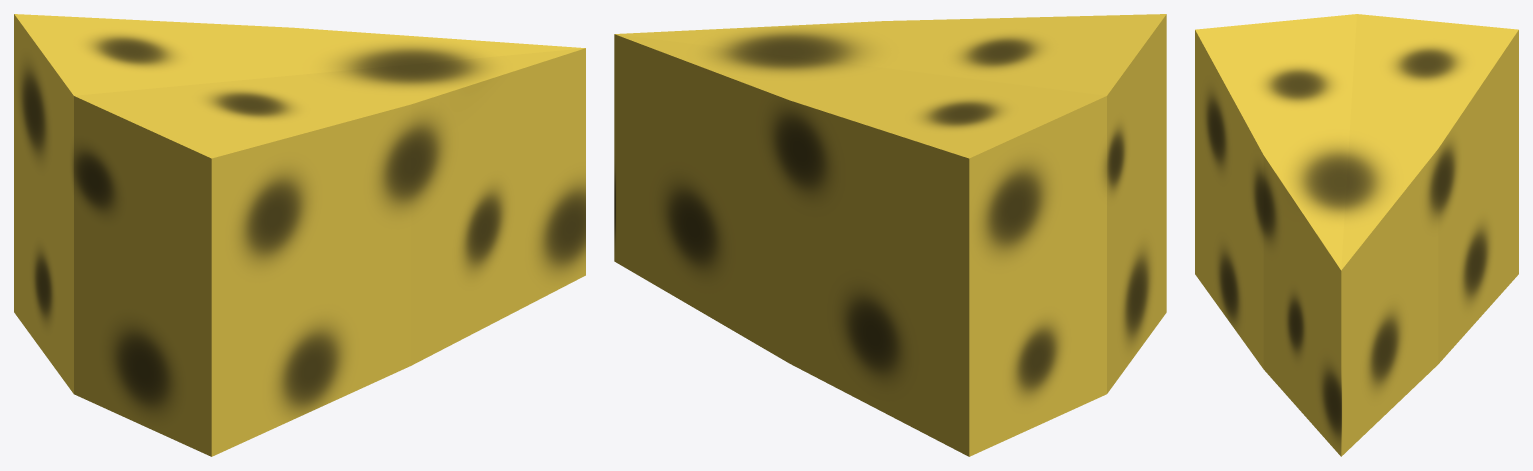
The model's file is chedda.fbx.
3 renders of one model, left to right at view 1: azimuth 30°, elevation 25°; view 2: azimuth 150°, elevation 25°; view 3: azimuth 270°, elevation 25°, orthographic. The views are drawn at different scales.
Parts seen in each view (by area): view 1: Cube; view 2: Cube; view 3: Cube.
Part boxes in pixels (x1=…): Cube: x1=14, y1=14, x2=585, y2=456; Cube: x1=614, y1=14, x2=1166, y2=456; Cube: x1=1195, y1=14, x2=1518, y2=456.
Bounding box in the file's own units: 294 × 167 × 200.
